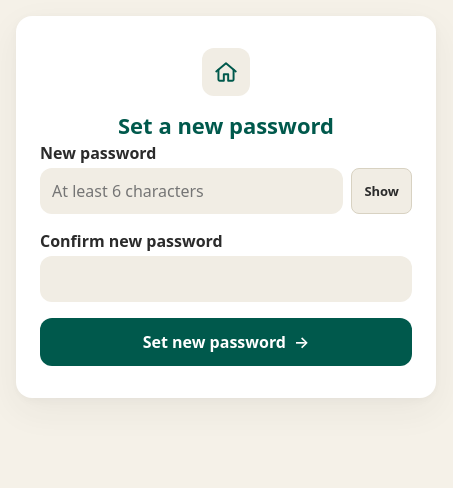
Test: ResetPasswordPage — with a recovery session (normal case) › shows a clear error when Supabase rejects the update
Type "newSecurePass123" into the password field labelled "New password" at (192, 191), box [40, 168, 343, 214]
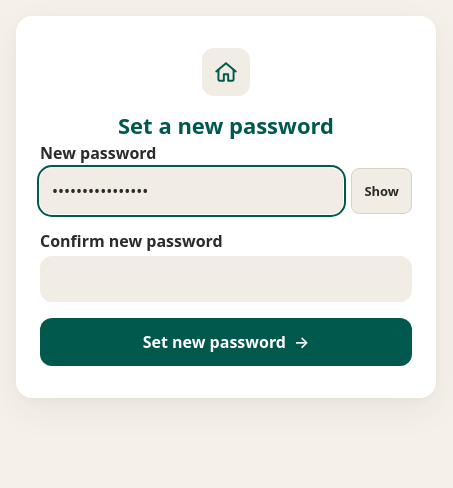
Type "newSecurePass123" into the password field labelled "Confirm new password" at (226, 279), box [40, 256, 412, 302]
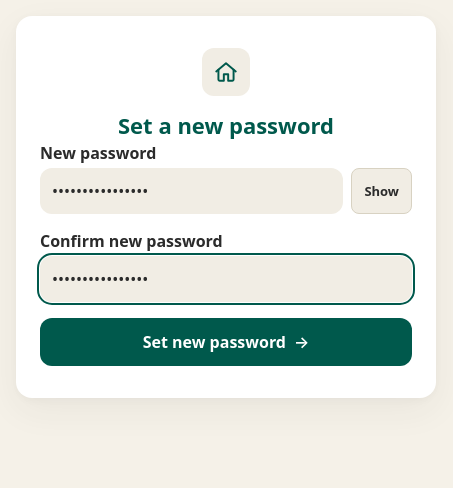
Click the button "Set new password →" at (226, 342), box [40, 318, 412, 366]
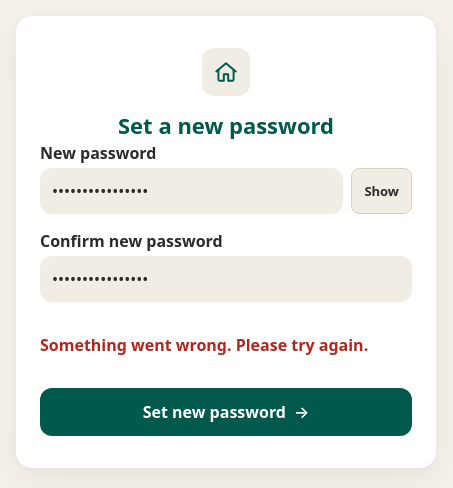
Expected: the message reads "Something went wrong. Please try again.", [40, 334, 368, 356]
